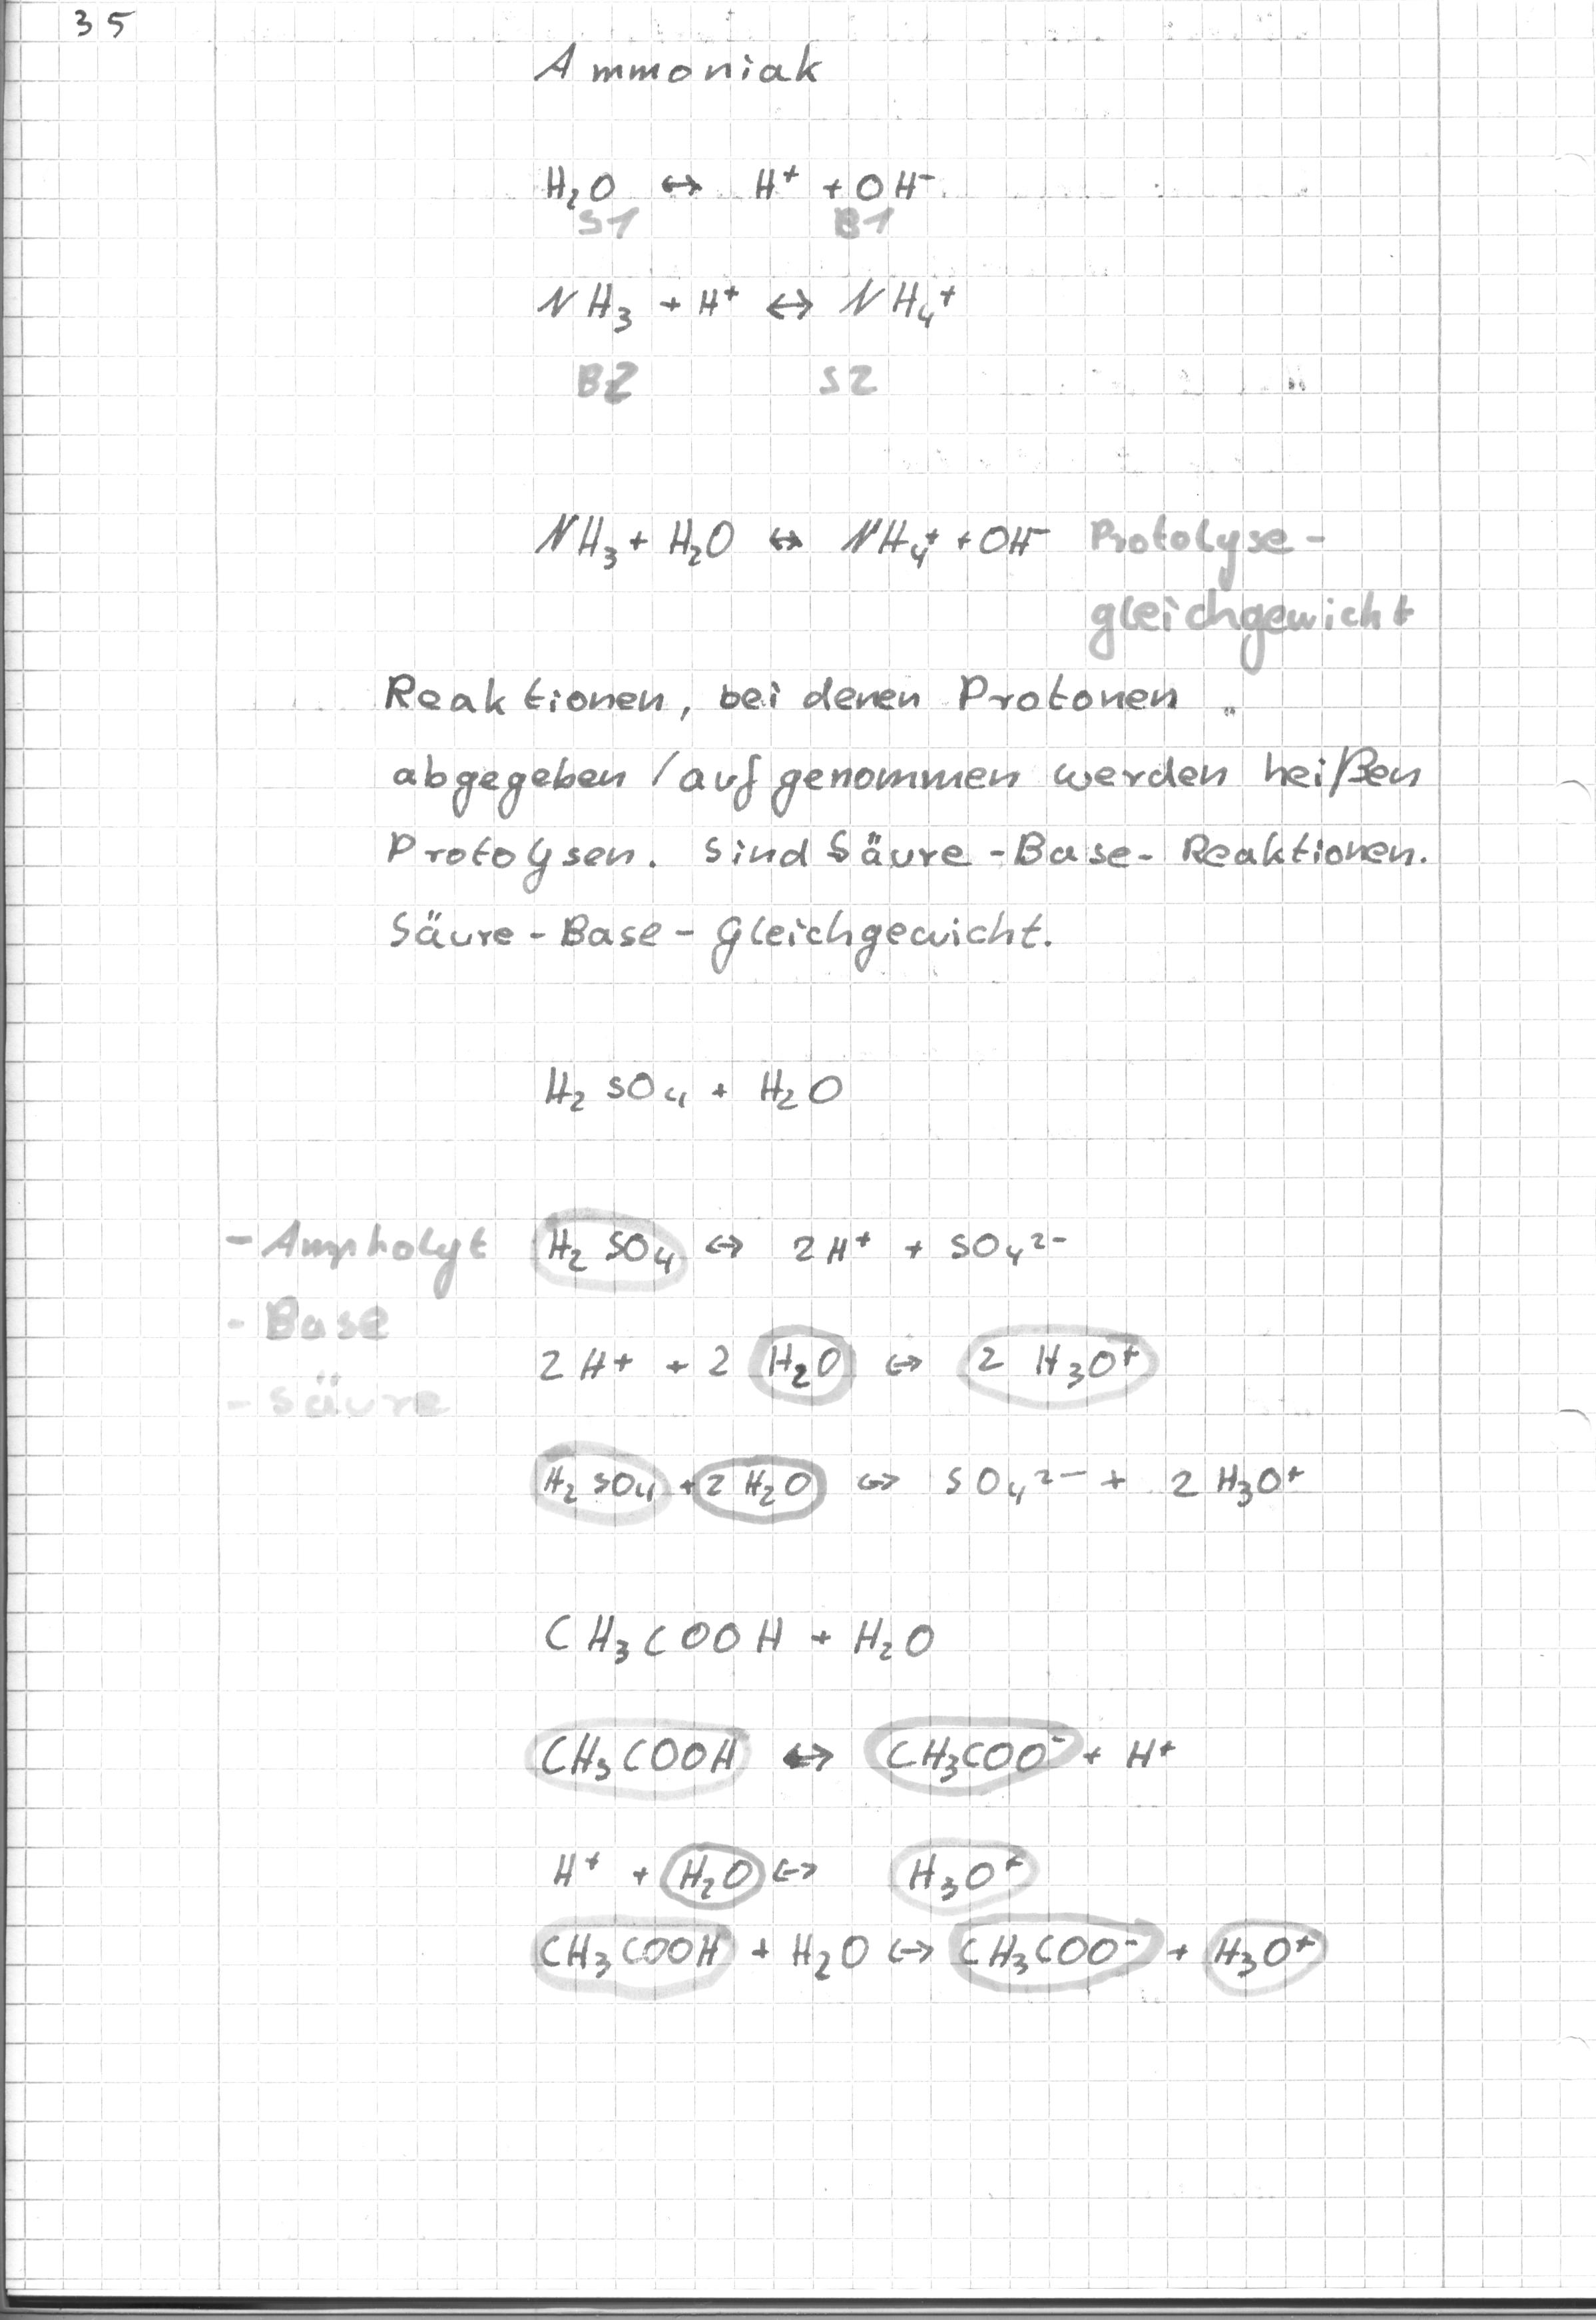word: (370, 661, 1438, 979), (529, 1830, 1331, 2009), (529, 1603, 1187, 1805), (530, 1205, 1151, 1398), (529, 1426, 1322, 1529), (523, 504, 1061, 587), (524, 258, 959, 342), (534, 1051, 862, 1145), (531, 151, 943, 220), (525, 30, 830, 103)
